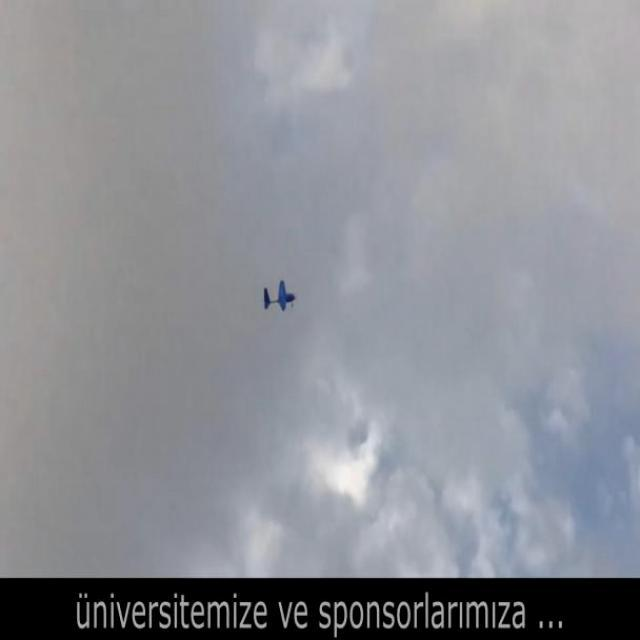iha: (261, 282, 298, 315)
